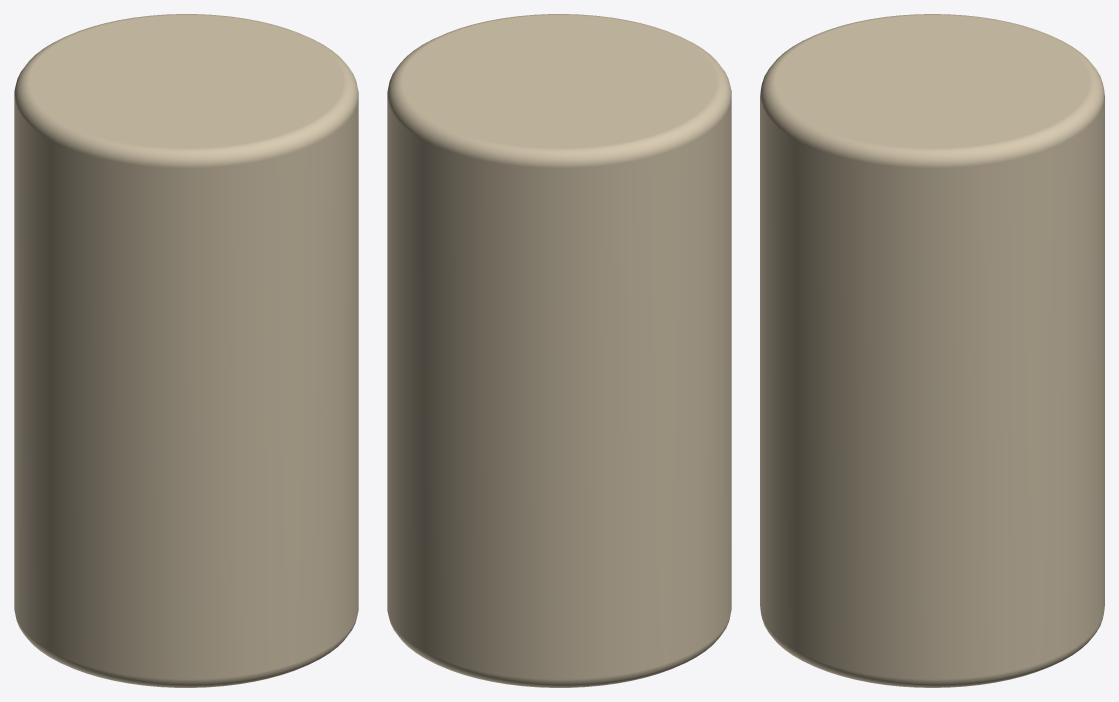
File: hero-stepping-3.glb
3 renders of one model, left to right at view 1: azimuth 30°, elevation 25°; view 2: azimuth 150°, elevation 25°; view 3: azimuth 270°, elevation 25°, orthographic.
Visible parts, largest first — view 1: Honed stone stepping disc.003; view 2: Honed stone stepping disc.003; view 3: Honed stone stepping disc.003.
Boxes of the visible parts, x1,y1,x2,y2 form: Honed stone stepping disc.003: (14, 14, 358, 687); Honed stone stepping disc.003: (387, 14, 731, 687); Honed stone stepping disc.003: (760, 14, 1104, 687).
Size of the model in its own units: 0.0681 by 0.1174 by 0.0681.
